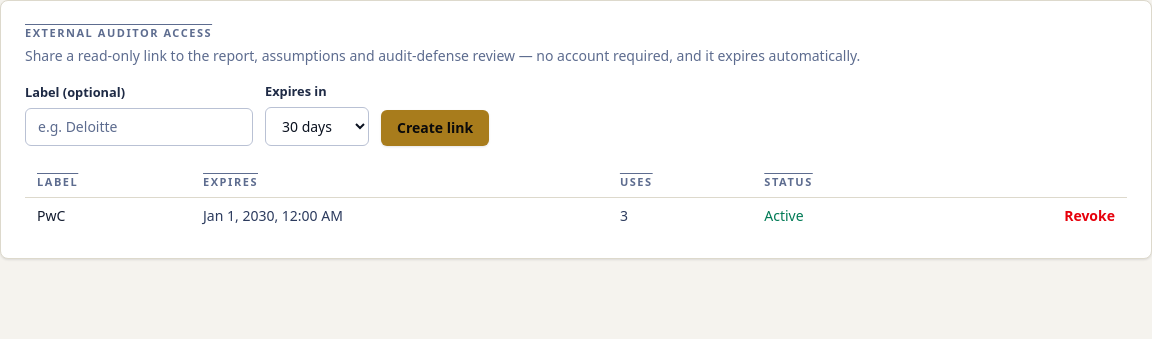
it: AuditorAccessPanel — revoking › names the operation and the status when the server explains nothing
Click the button "Revoke" at (1090, 216), box [1064,206,1115,226]
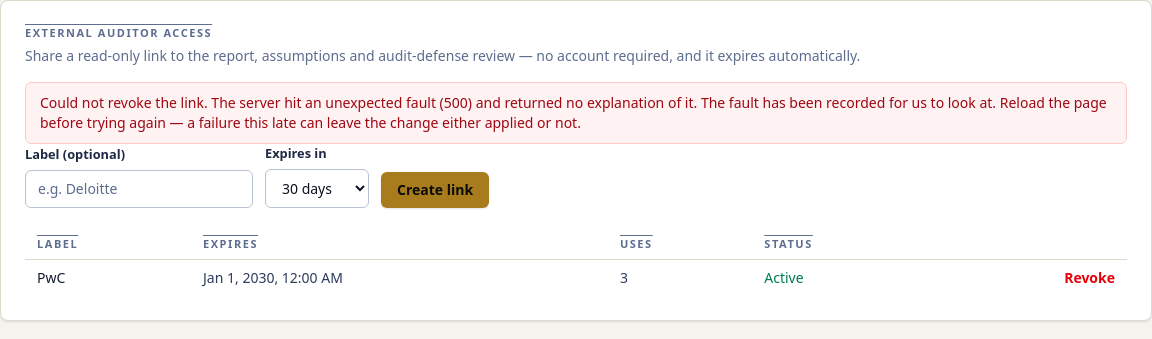
Expected: the message does not show "Internal Server Error", [25,82,1127,144]
Expected: the message shows "Could not revoke the link.", [40,92,1107,132]
Expected: the message shows "unexpected fault (500)", [40,92,1107,132]
